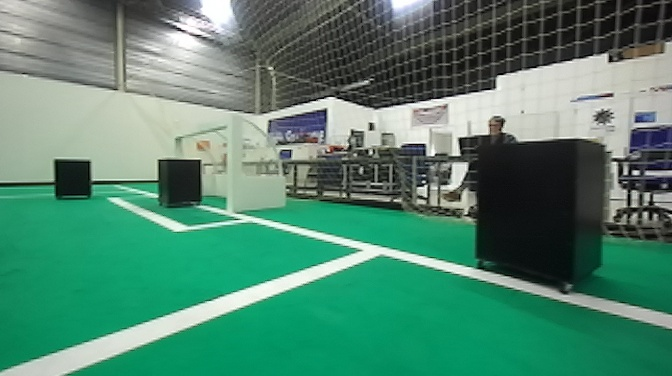goalpost: (226, 119, 242, 217), (173, 135, 183, 158)
